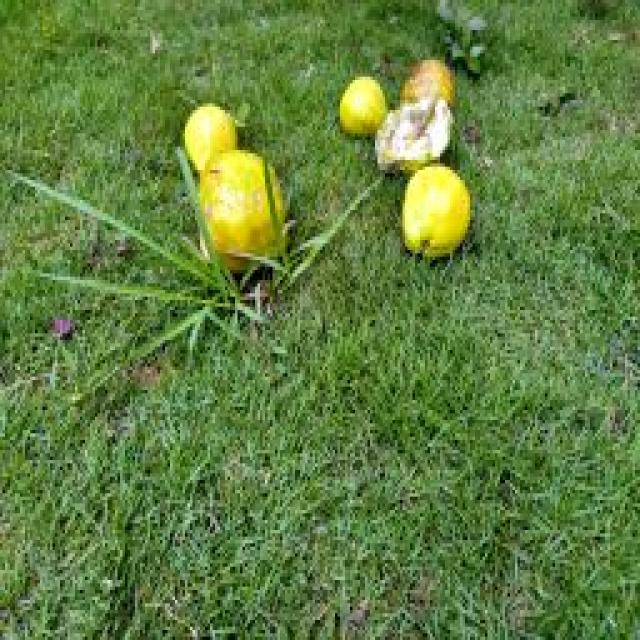Organik: (188, 151, 296, 272), (389, 166, 485, 268), (378, 94, 463, 167), (392, 48, 478, 119), (170, 97, 239, 167), (332, 68, 389, 145)
